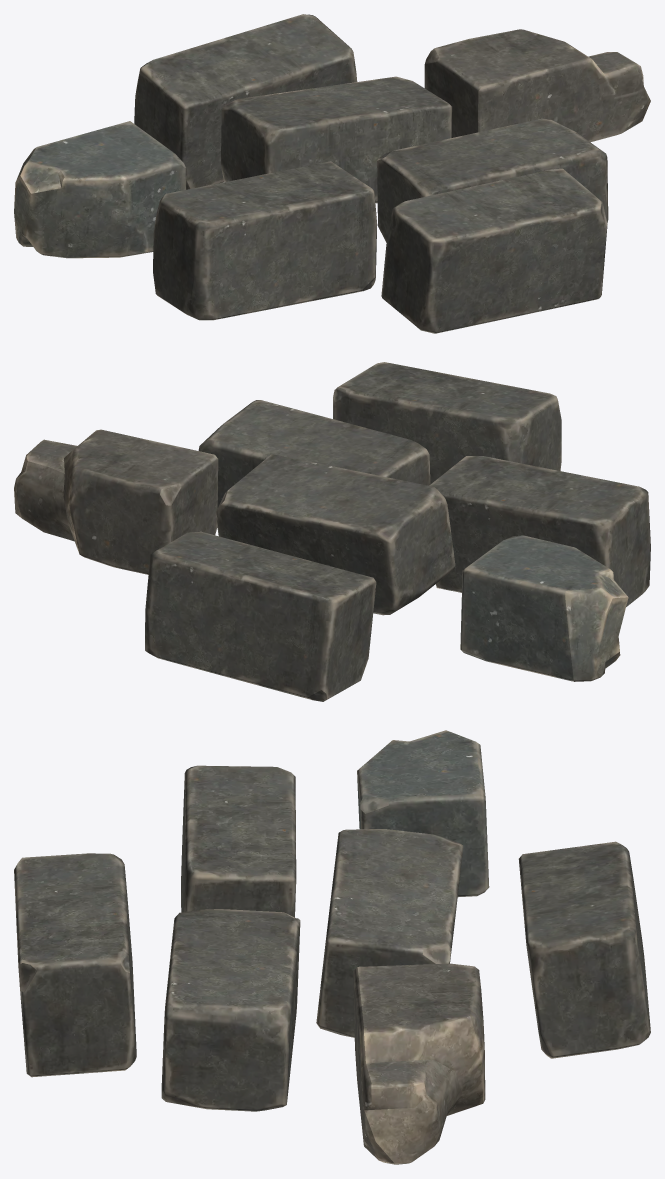
3 renders of one model, top to bottom at view 1: azimuth 30°, elevation 25°; view 2: azimuth 150°, elevation 25°; view 3: azimuth 270°, elevation 25°, orthographic. The views are drawn at different scales.
Visible parts, largest first — view 1: SM_SaradominTemple_BrickCluster_03_LOD0; view 2: SM_SaradominTemple_BrickCluster_03_LOD0; view 3: SM_SaradominTemple_BrickCluster_03_LOD0.
Boxes of the visible parts, <box> form: SM_SaradominTemple_BrickCluster_03_LOD0: <box>14,14,650,333</box>; SM_SaradominTemple_BrickCluster_03_LOD0: <box>14,362,650,701</box>; SM_SaradominTemple_BrickCluster_03_LOD0: <box>14,730,650,1164</box>.
Bounding box in the file's own units: 4.05 × 0.7993 × 3.15.
1 material, 1 textured.
